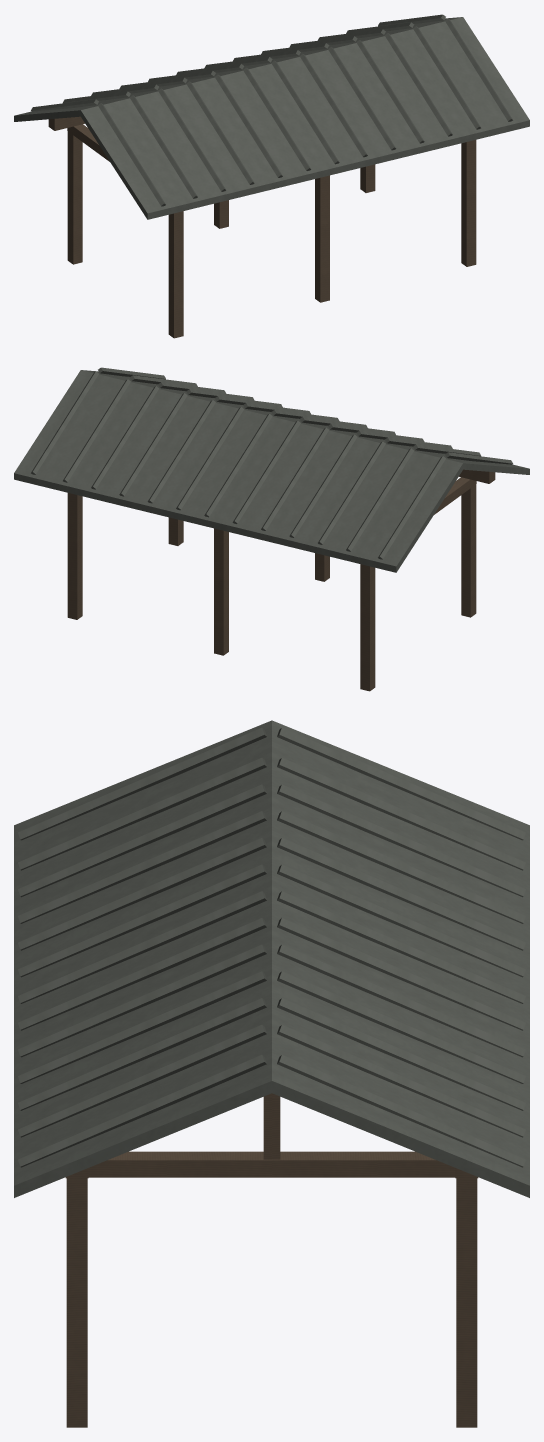
Rendered from workshed-LOD1.glb.
3 renders of one model, top to bottom at view 1: azimuth 30°, elevation 25°; view 2: azimuth 150°, elevation 25°; view 3: azimuth 270°, elevation 25°, orthographic. The views are drawn at different scales.
Visible parts, largest first — view 1: workshed_tile, workshed_timber; view 2: workshed_tile, workshed_timber; view 3: workshed_tile, workshed_timber.
Boxes of the visible parts, bbox=[...] form: workshed_tile: bbox=[14, 14, 529, 219]; workshed_timber: bbox=[48, 116, 476, 338]; workshed_tile: bbox=[14, 367, 529, 572]; workshed_timber: bbox=[67, 469, 495, 691]; workshed_tile: bbox=[14, 720, 529, 1197]; workshed_timber: bbox=[65, 1093, 478, 1427].
Size of the model in its own units: 8.1 by 4.13 by 4.9.
2 materials, 2 textured.
